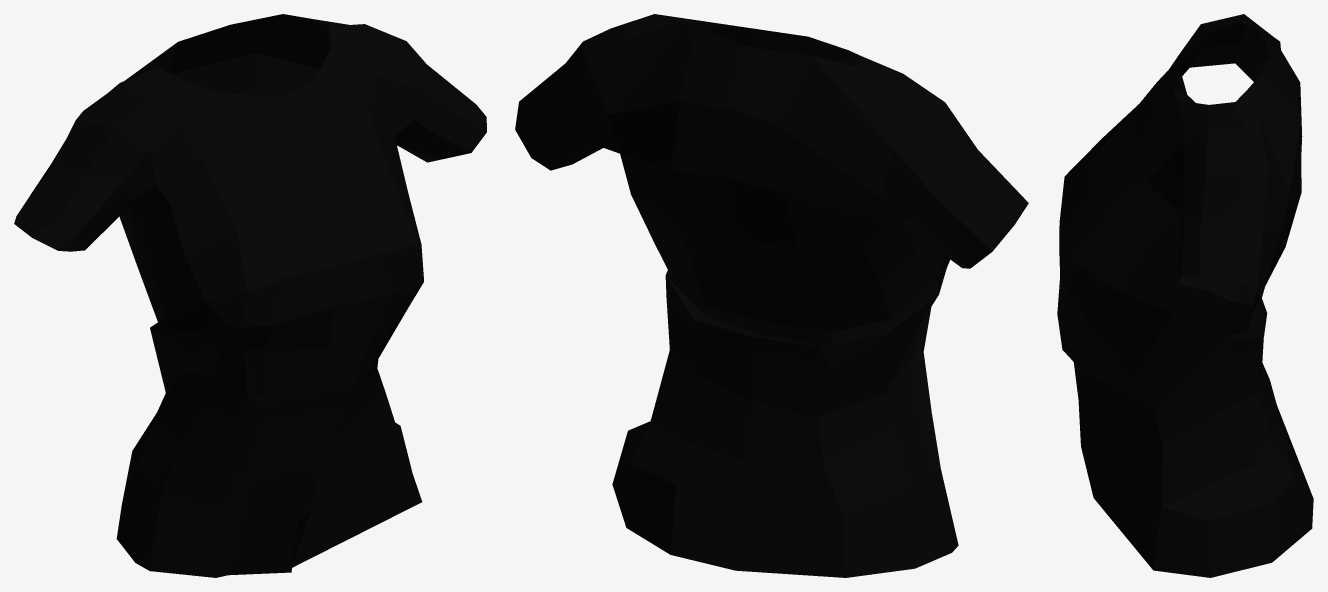
File: main_cloth.obj
The picture shows the model from 3 angles, left to right: view 1: azimuth 30°, elevation 25°; view 2: azimuth 150°, elevation 25°; view 3: azimuth 270°, elevation 25°; orthographic projection. The views are drawn at different scales.
Visible parts, largest first — view 1: polySurface467 polySurface462; view 2: polySurface467 polySurface462; view 3: polySurface467 polySurface462.
Part boxes in pixels (x1=…): polySurface467 polySurface462: x1=14, y1=14, x2=486, y2=577; polySurface467 polySurface462: x1=515, y1=14, x2=1028, y2=577; polySurface467 polySurface462: x1=1057, y1=14, x2=1313, y2=577.
Size of the model in its own units: 54.39 by 54.93 by 27.09.
1 material, 1 textured.
